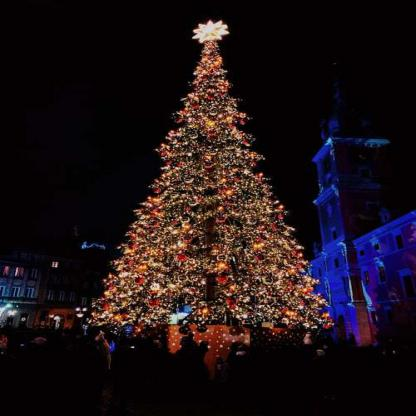x_mas tree: (129, 8, 338, 354)
